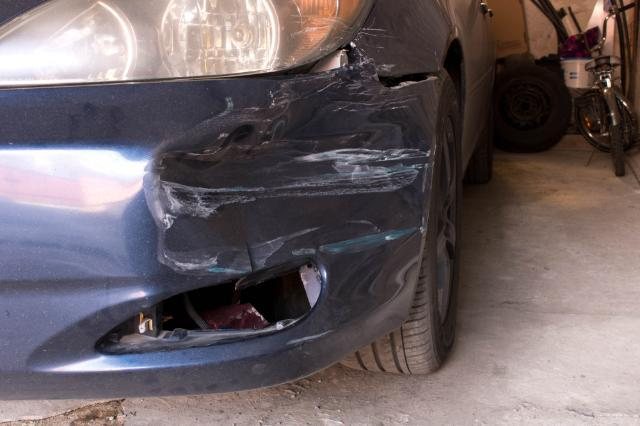crack: (246, 234, 255, 273)
dent: (148, 92, 433, 274)
dislocated part: (338, 40, 439, 95)
no part: (96, 256, 322, 355)
